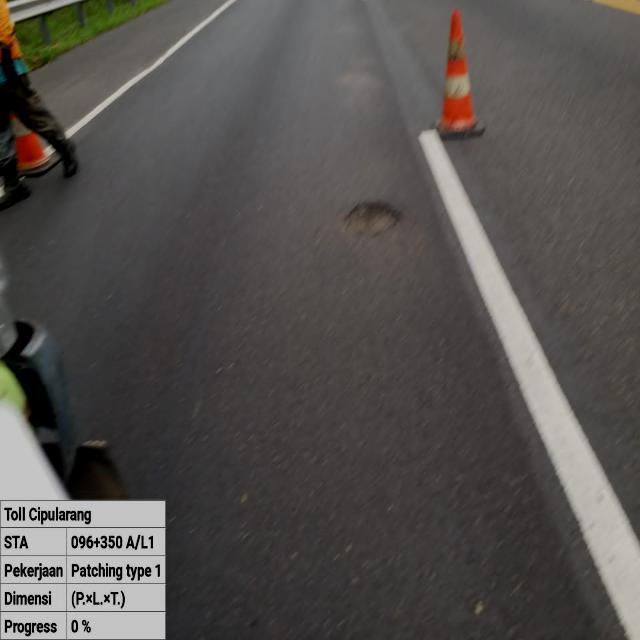Buraco: (338, 198, 406, 242)
